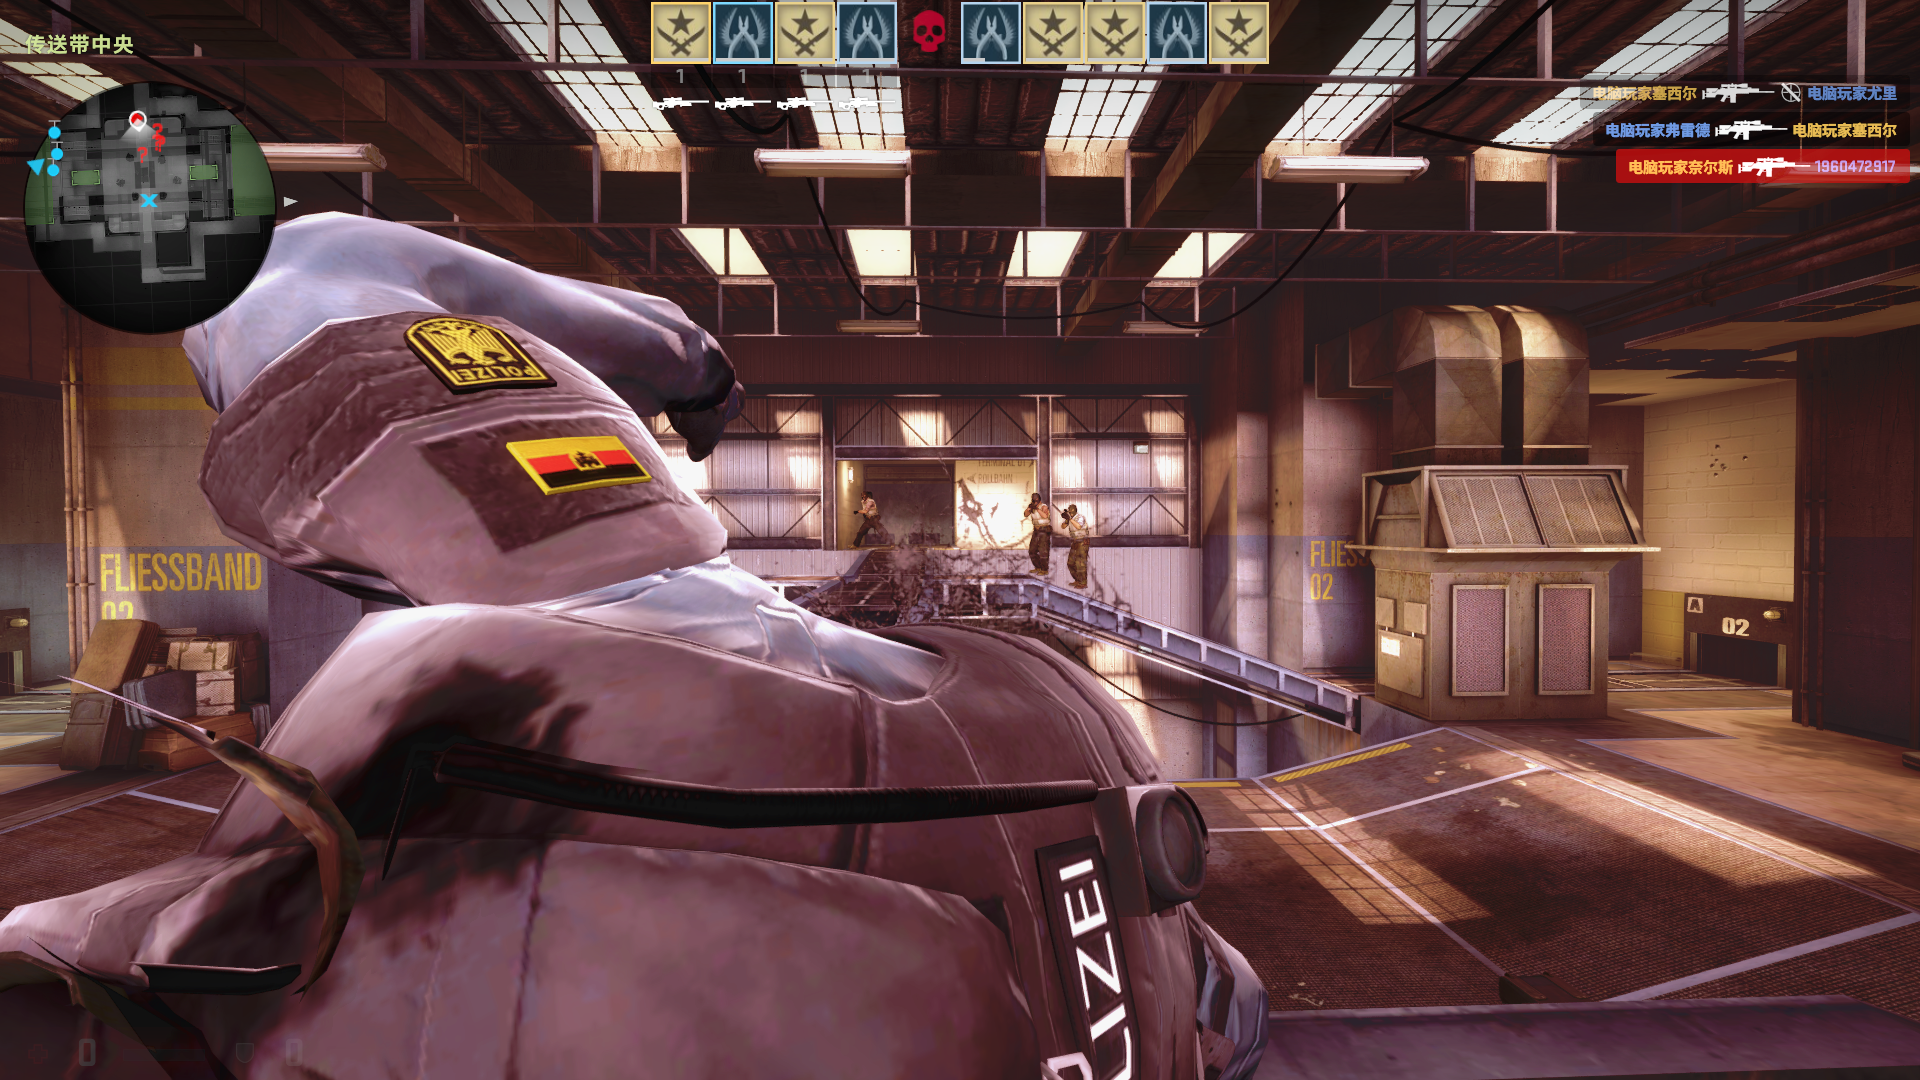person: (1061, 502, 1098, 585), (1023, 496, 1051, 575), (851, 491, 879, 552)
